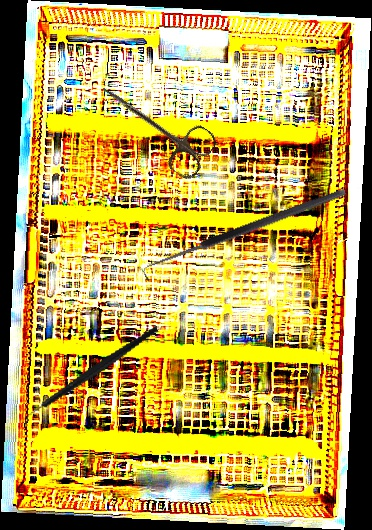Chopper: (8, 323, 174, 431)
Hook Surgical: (140, 186, 351, 284)
Iris Scissors: (86, 68, 221, 183)
